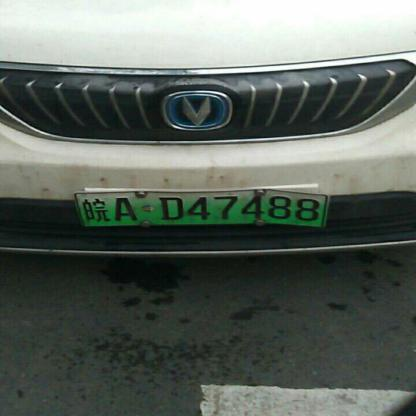lp: (73, 192, 329, 228)
